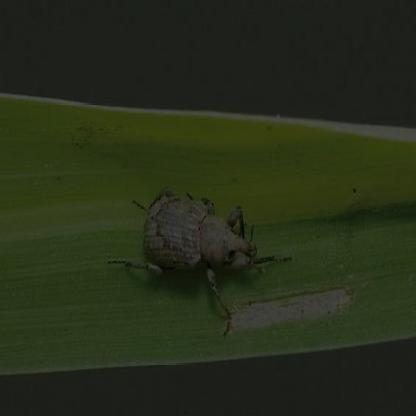rice-bug: (118, 184, 258, 290)
